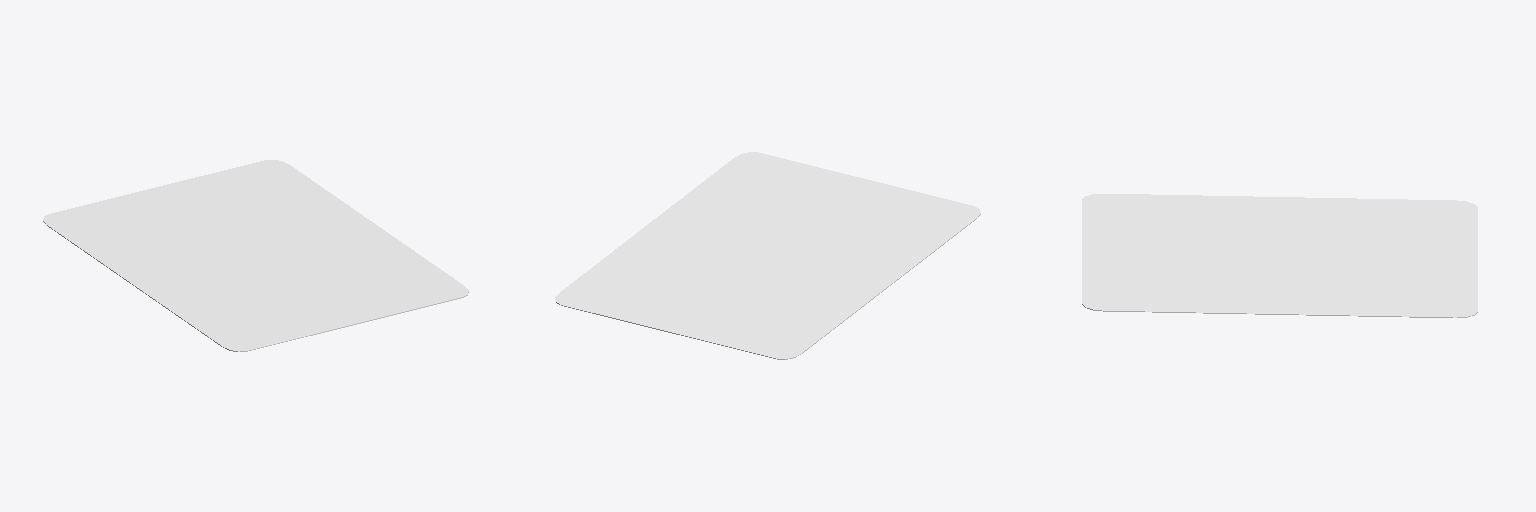
The model's file is chandra_specular.obj.
The picture shows the model from 3 angles: view 1: azimuth 30°, elevation 25°; view 2: azimuth 150°, elevation 25°; view 3: azimuth 270°, elevation 25°; orthographic projection.
Visible parts, largest first — view 1: Chandra_specular; view 2: Chandra_specular; view 3: Chandra_specular.
Part boxes in pixels (x1,y1,x2,y2): Chandra_specular: (43, 160, 468, 351); Chandra_specular: (555, 152, 980, 359); Chandra_specular: (1082, 194, 1477, 317).
Bounding box in the file's own units: 0.5002 × 0.0191 × 0.7063.